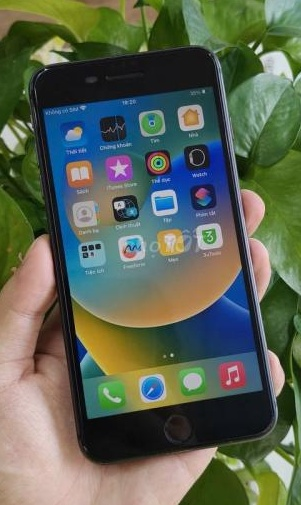scratch: (160, 408, 280, 452), (28, 83, 42, 128), (74, 436, 90, 452), (83, 74, 100, 84), (36, 65, 49, 72), (203, 50, 214, 58)
